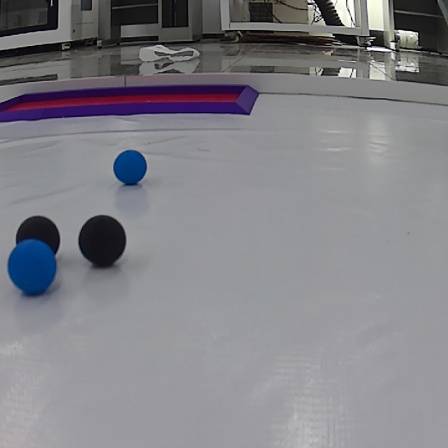black: (77, 213, 130, 263), (10, 212, 61, 255)
blue: (6, 241, 63, 296), (112, 146, 150, 185)
red_aim: (4, 86, 256, 117)
